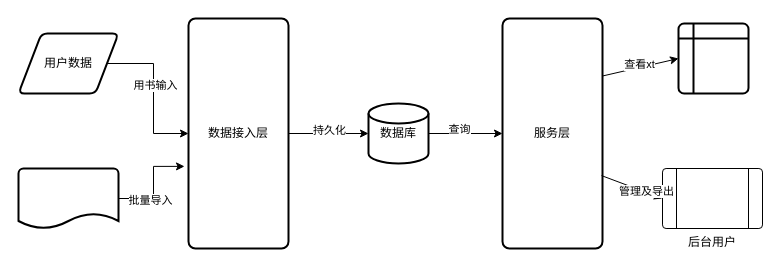
The diagram is 780 pixels wide and 266 high, and some of its shapes have lost their labels. The shapes that lost their labels are listed below. From the top down, each one's centre as x and y in pixels, then its label:
At (713,58): "前端用户".
At (68,198): "后台导入".
